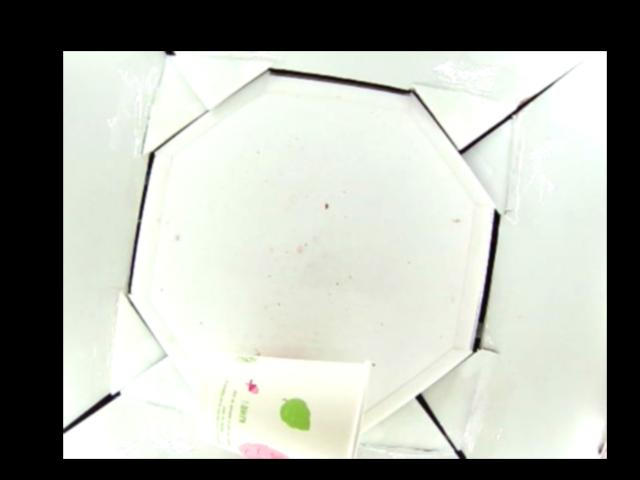Cup: (196, 353, 374, 458)
